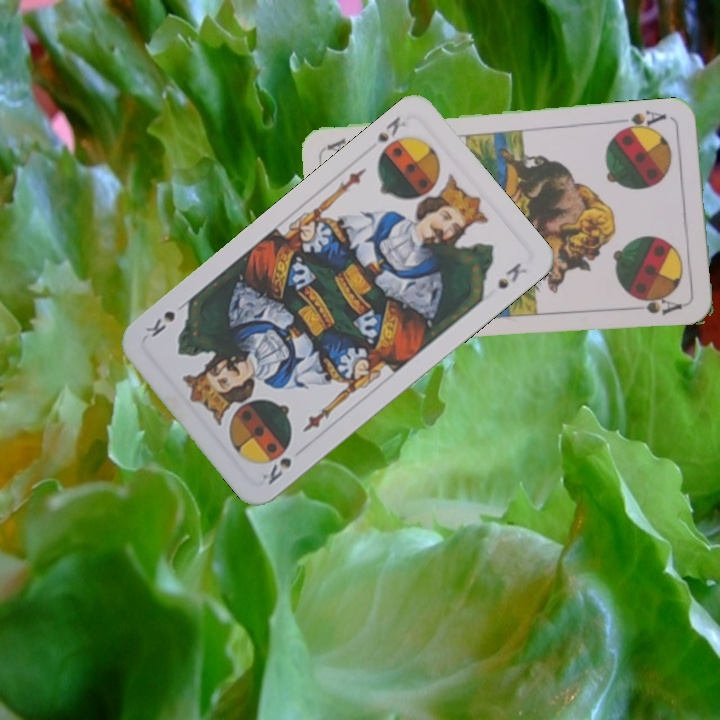SA: (614, 106, 668, 135)
SK: (258, 453, 294, 488), (373, 112, 409, 145)
